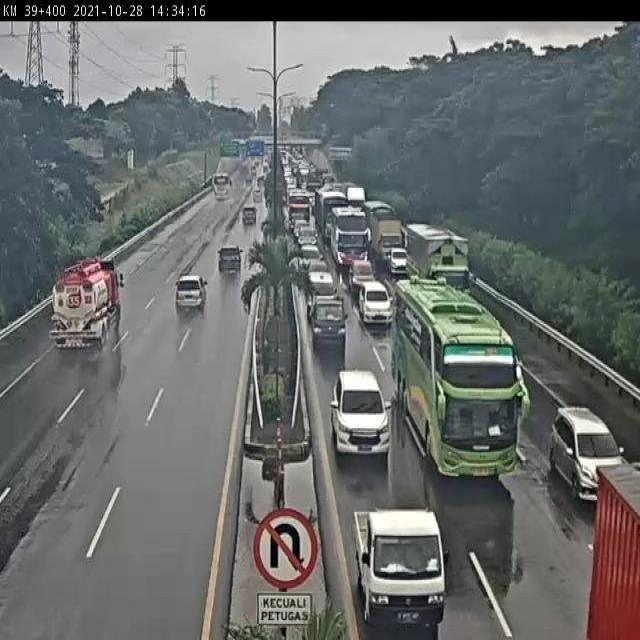bus-l-: (394, 278, 521, 482), (330, 205, 370, 263)
car: (353, 506, 450, 626), (331, 363, 392, 449), (491, 356, 529, 419), (307, 296, 347, 349), (355, 278, 393, 322), (306, 266, 339, 302), (348, 258, 378, 286), (217, 247, 245, 276), (299, 241, 324, 272)
